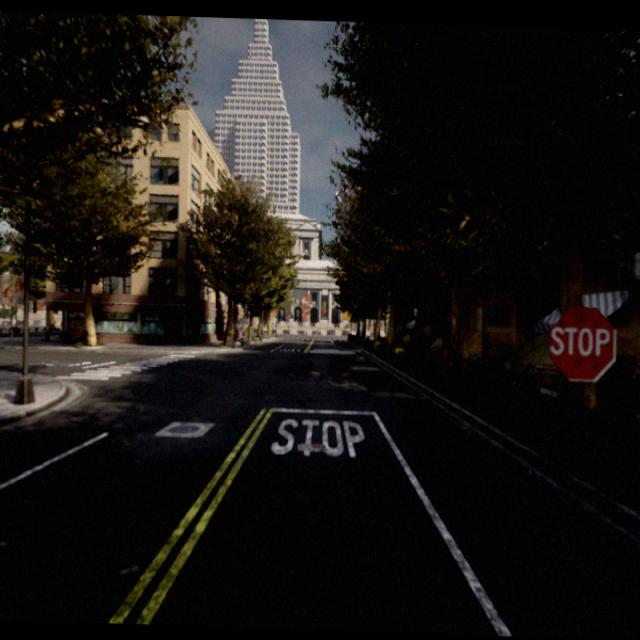stop sign: (546, 302, 618, 386), (550, 324, 611, 358)
